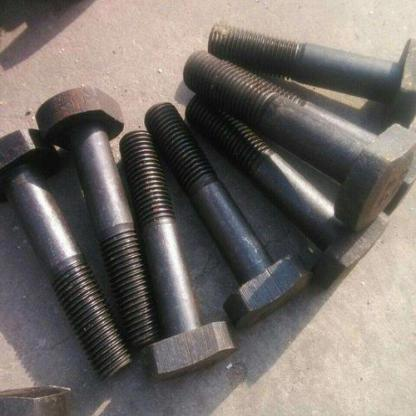FOD: (144, 99, 310, 328), (0, 127, 133, 376), (34, 84, 155, 346), (119, 126, 239, 380), (209, 20, 415, 127)
